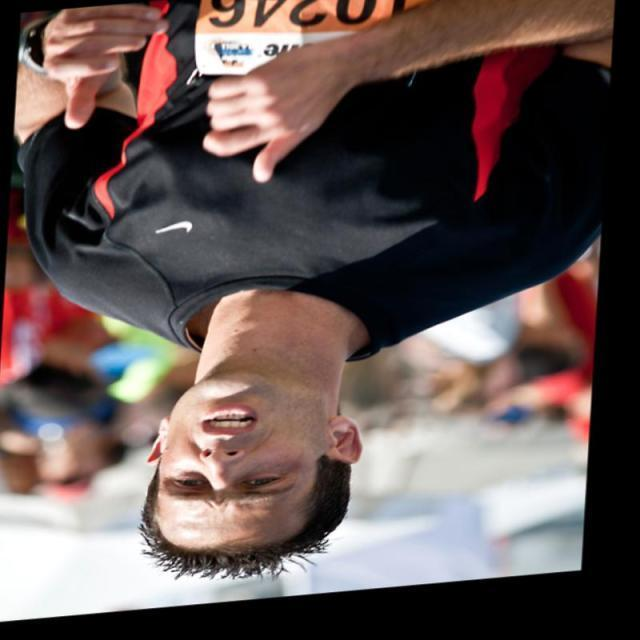dorsal: (174, 0, 436, 103)
